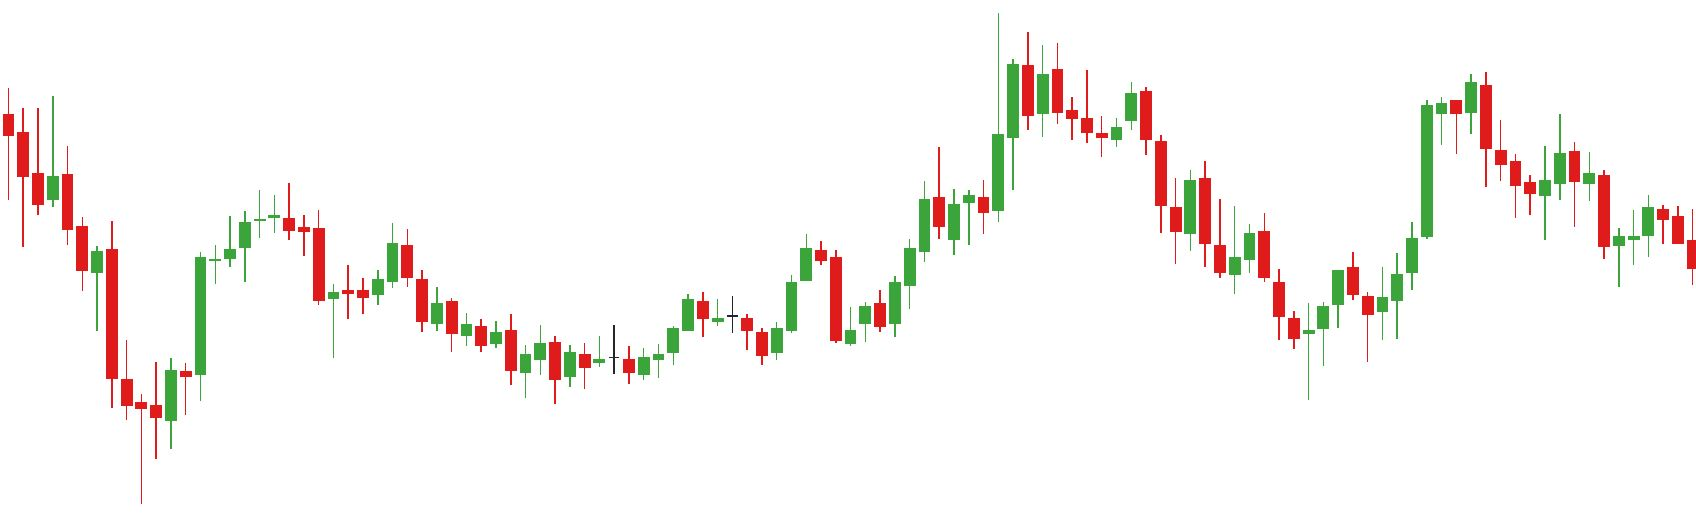sell: (100, 179, 299, 327)
